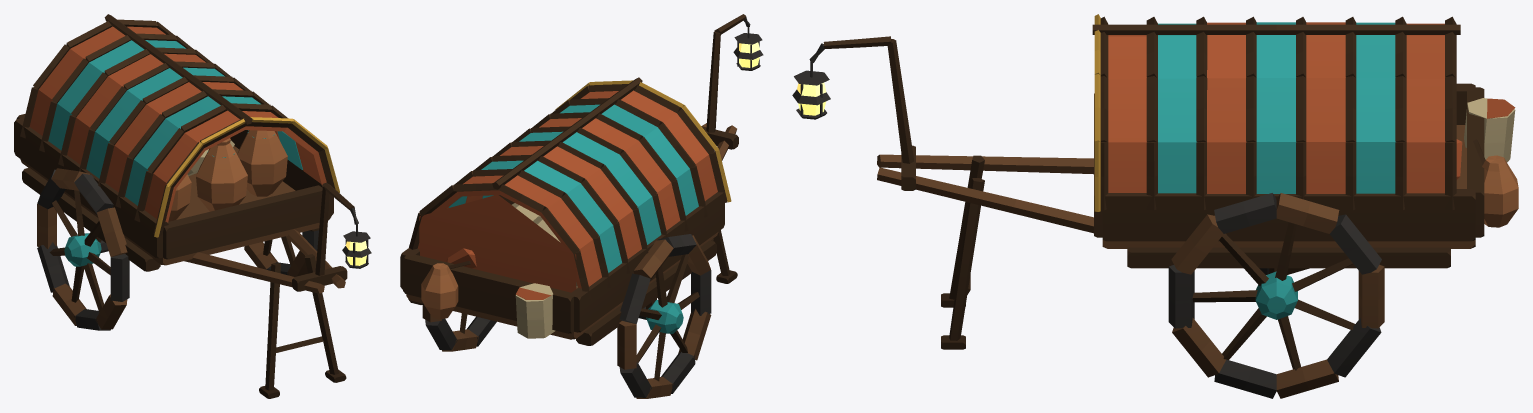
File: cart.glb
3 renders of one model, left to right at view 1: azimuth 30°, elevation 25°; view 2: azimuth 150°, elevation 25°; view 3: azimuth 270°, elevation 25°, orthographic. The views are drawn at different scales.
Parts seen in each view (by area): view 1: hood, bed, wheelR, wheelL, lantern; view 2: hood, bed, wheelR, wheelL, lantern; view 3: hood, bed, wheelL, lantern.
Part boxes in pixels (<box>): hood: <box>20,14,339,237</box>; bed: <box>14,114,358,398</box>; wheelR: <box>37,168,129,330</box>; wheelL: <box>244,230,318,276</box>; lantern: <box>342,224,371,268</box>; hood: <box>409,77,731,302</box>; bed: <box>400,14,750,345</box>; wheelR: <box>617,234,711,398</box>; wheelL: <box>422,305,496,351</box>; lantern: <box>733,27,763,70</box>; hood: <box>1092,14,1460,211</box>; bed: <box>809,36,1518,349</box>; wheelL: <box>1168,193,1384,398</box>; lantern: <box>792,61,830,119</box>.
Size of the model in its own units: 1.34 by 1.38 by 2.92.
